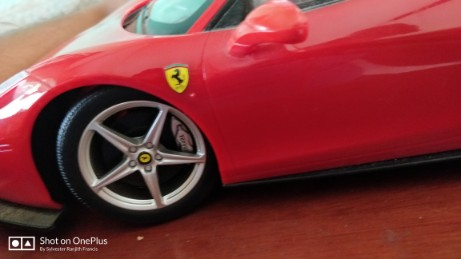unaligned_wheel: (48, 79, 245, 232)
